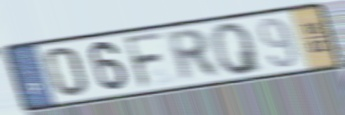0: (43, 46, 91, 98)
6: (89, 40, 130, 93)
9: (256, 16, 300, 70)
F: (122, 30, 167, 92)
Q: (209, 20, 266, 77)
R: (163, 27, 224, 85)
